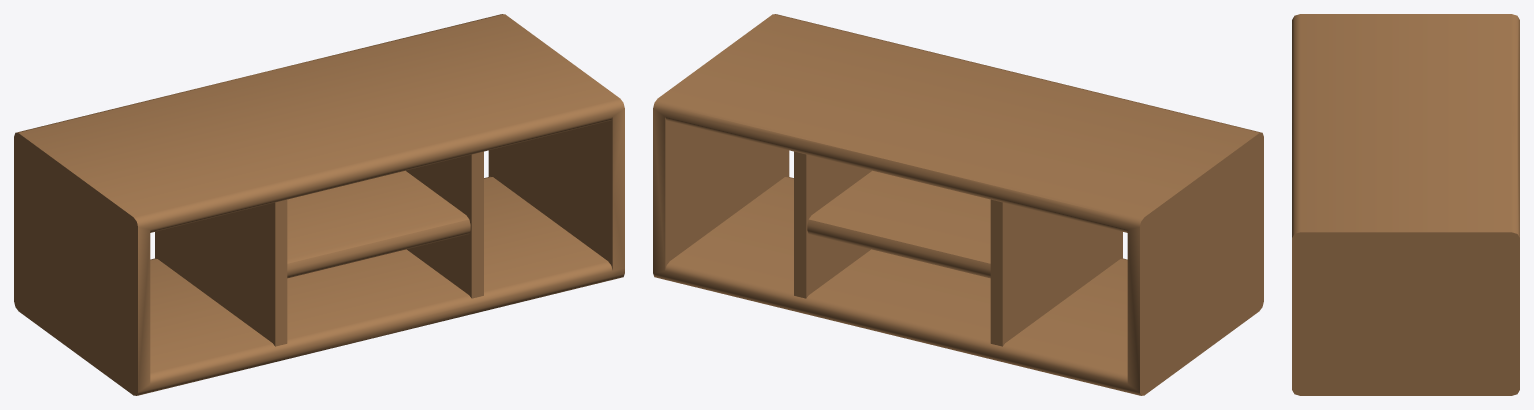
The model's file is quaternius-sushi-restaurant-environment-cabinet-shelves-2.glb.
The picture shows the model from 3 angles, left to right: view 1: azimuth 30°, elevation 25°; view 2: azimuth 150°, elevation 25°; view 3: azimuth 270°, elevation 25°; orthographic projection. The views are drawn at different scales.
Visible parts, largest first — view 1: Environment_Cabinet_Shelves_2; view 2: Environment_Cabinet_Shelves_2; view 3: Environment_Cabinet_Shelves_2.
Boxes of the visible parts, box(x1,y1,x2,y2) form: Environment_Cabinet_Shelves_2: box(14, 14, 624, 395); Environment_Cabinet_Shelves_2: box(653, 14, 1263, 395); Environment_Cabinet_Shelves_2: box(1292, 14, 1519, 395).
Bounding box in the file's own units: 4 × 1.4 × 1.77.
Materials: 1 (1 with a texture image).
